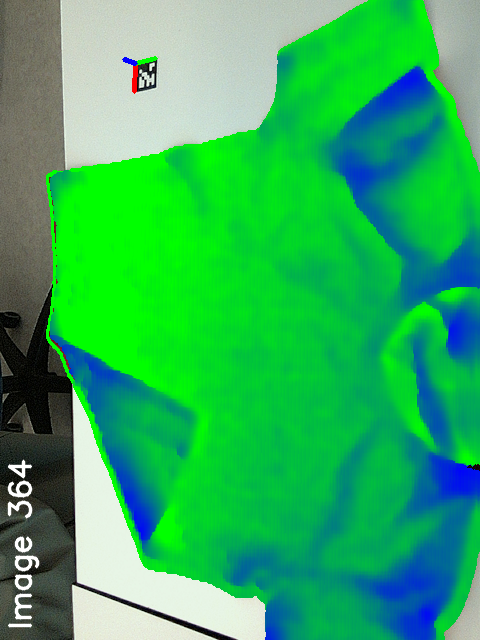V: (163, 389, 221, 439)
